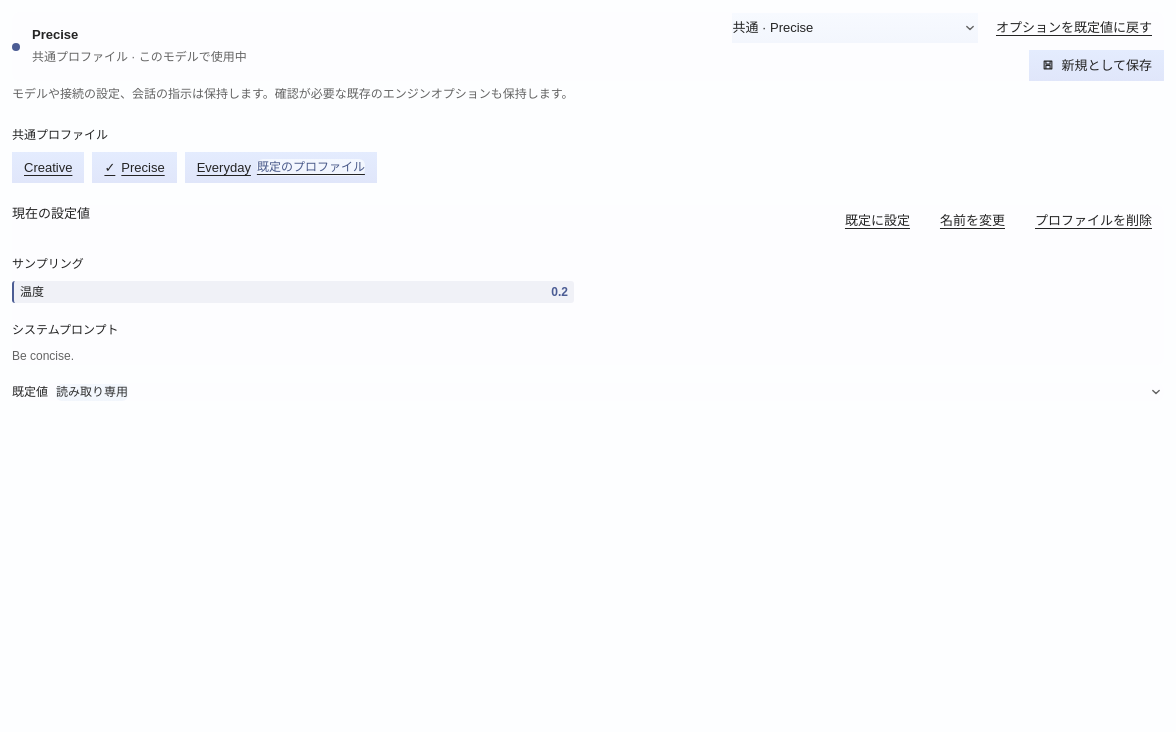
Test case: settings profile workspace › keeps creation and profile selection distinct in every layout in ja
This screenshot has width=1176, height=732.
Expected: the number of buttons "新規として保存" is 1, top-left (1029, 50), bottom-right (1164, 81)
Click the button "Creative" at (48, 167), box top-left (12, 152), bottom-right (84, 183)
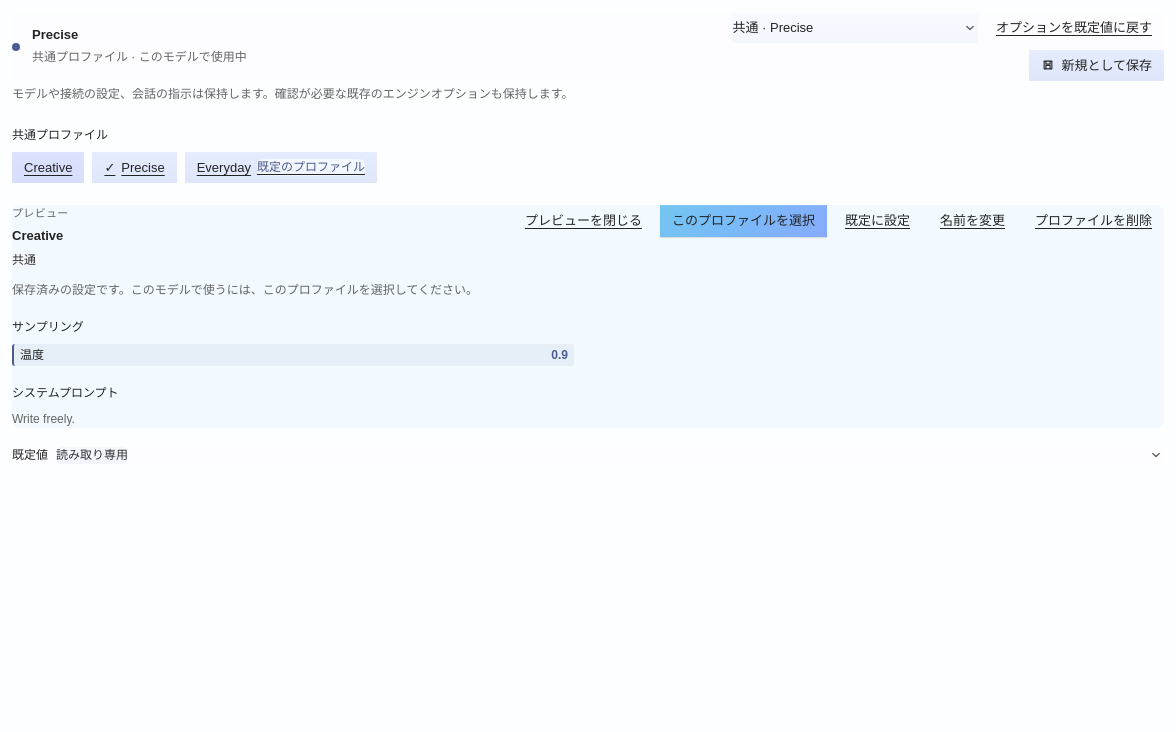
Expected: the button "このプロファイルを選択" is enabled, top-left (660, 205), bottom-right (827, 237)
Click the button "新規として保存" at (1097, 65), box top-left (1029, 50), bottom-right (1164, 81)
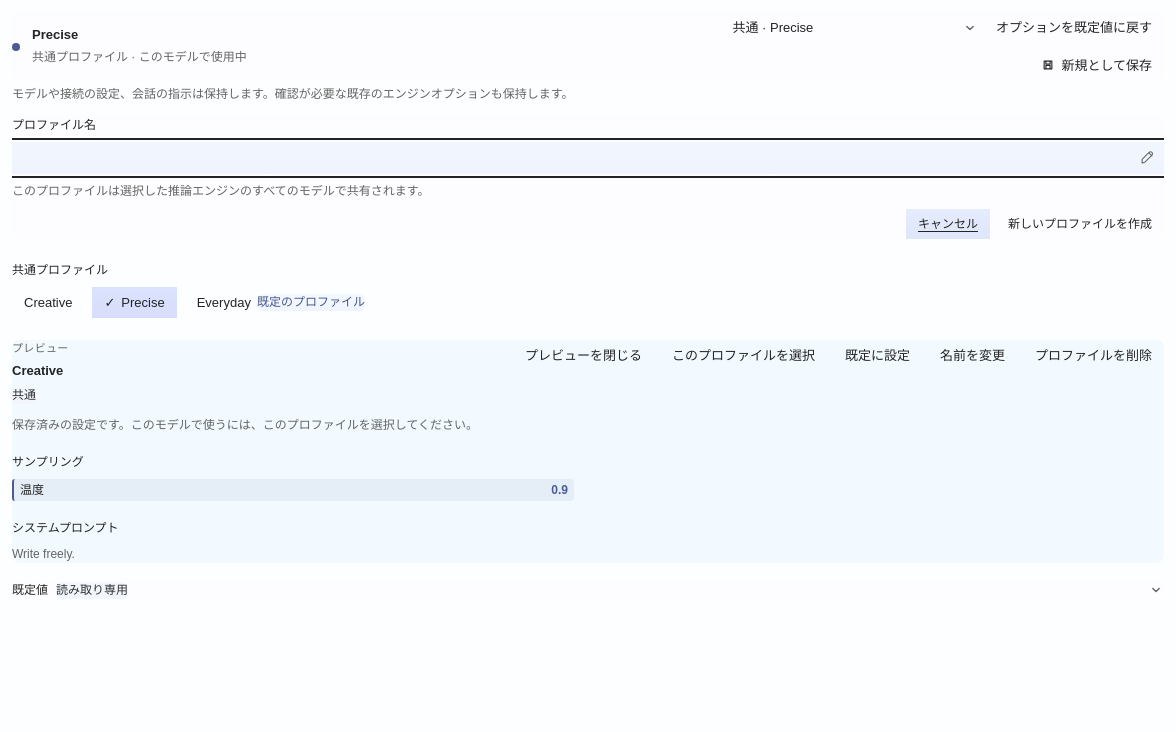
Expected: the button "新しいプロファイルを作成" is disabled, top-left (996, 209), bottom-right (1164, 239)
